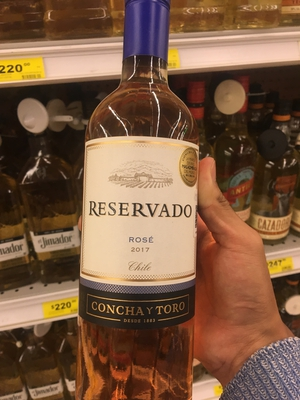reservado rose: (79, 7, 201, 400)
